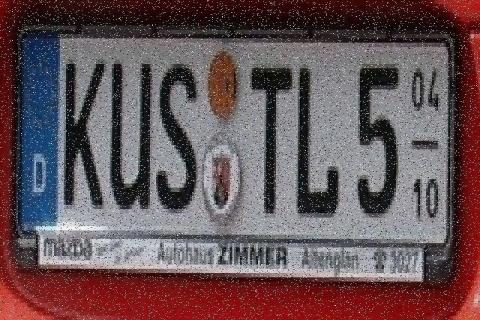LicensePlate: (17, 17, 459, 283)
